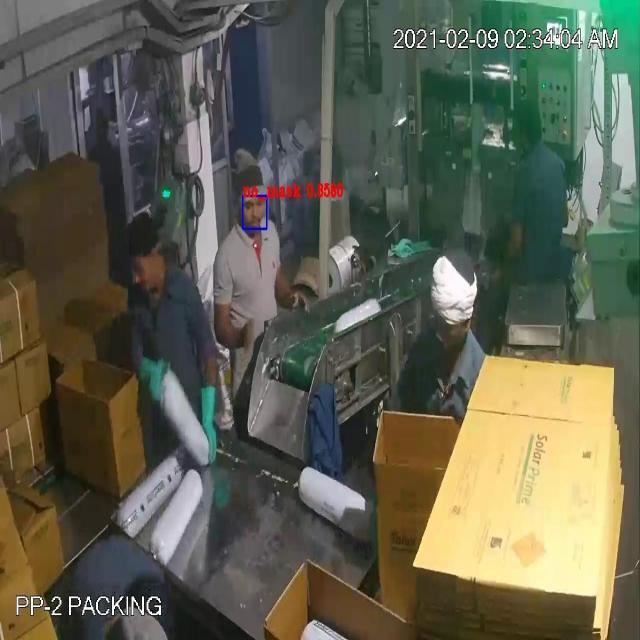Gloves: (46, 65, 506, 426)
